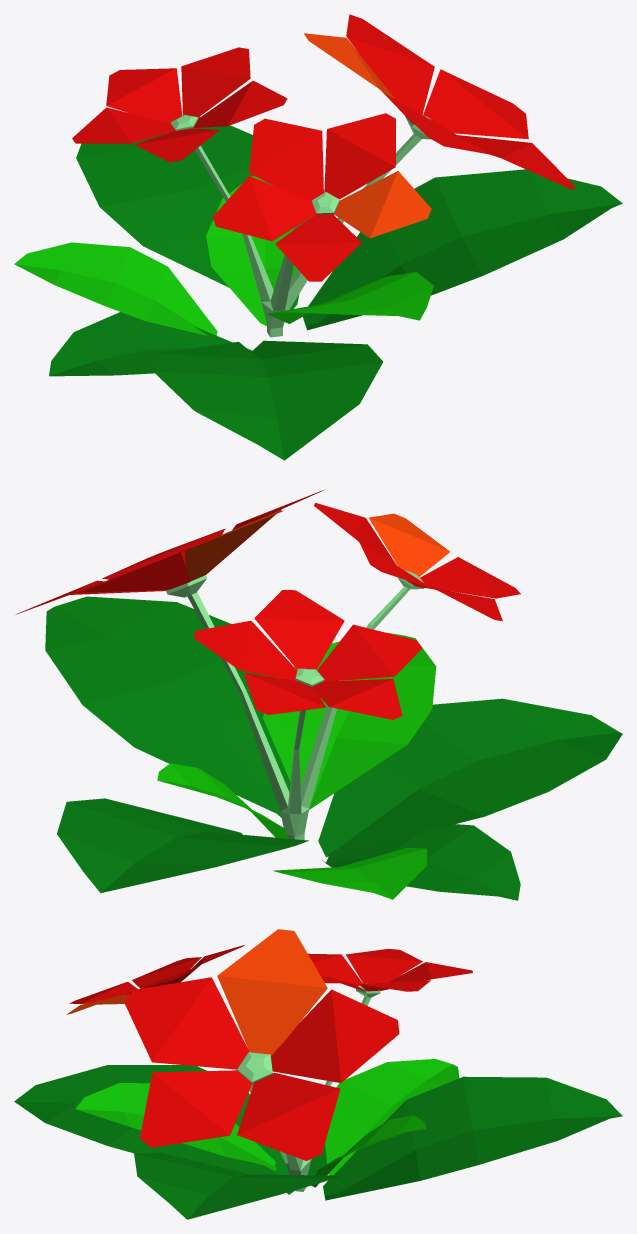
File: Flower Set.fbx
The picture shows the model from 3 angles, top to bottom: view 1: azimuth 30°, elevation 25°; view 2: azimuth 150°, elevation 25°; view 3: azimuth 270°, elevation 25°; orthographic projection. The views are drawn at different scales.
Parts seen in each view (by area): view 1: Cube.035; view 2: Cube.035; view 3: Cube.035.
Boxes of the visible parts, x1,y1,x2,y2 form: Cube.035: (14, 14, 622, 460); Cube.035: (16, 489, 622, 900); Cube.035: (14, 929, 622, 1219).
Size of the model in its own units: 62.99 by 37.56 by 72.52.
